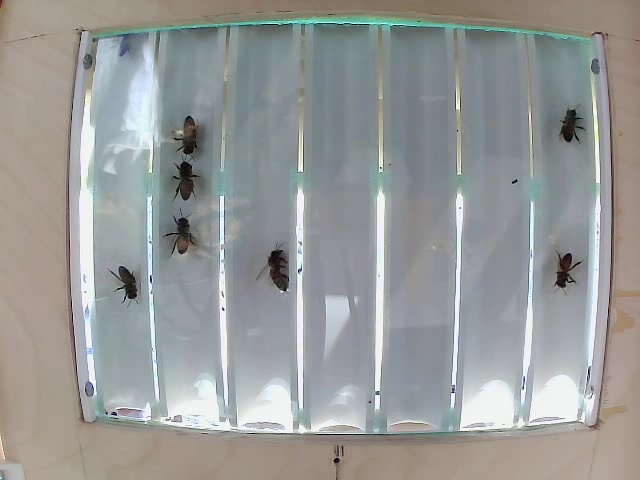bee: (164, 165, 214, 212), (258, 245, 299, 298), (109, 262, 153, 310), (177, 107, 221, 149), (162, 216, 200, 259), (552, 253, 580, 294), (565, 97, 584, 150)
